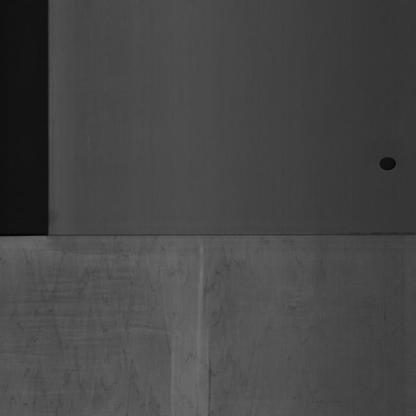punching_hole: (377, 152, 400, 174)
silk_spot: (1, 243, 307, 413)
welding_line: (41, 224, 416, 248)
